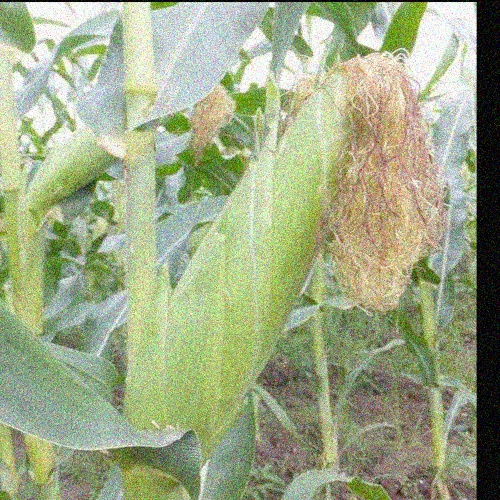corn_plant: (114, 39, 430, 470)
